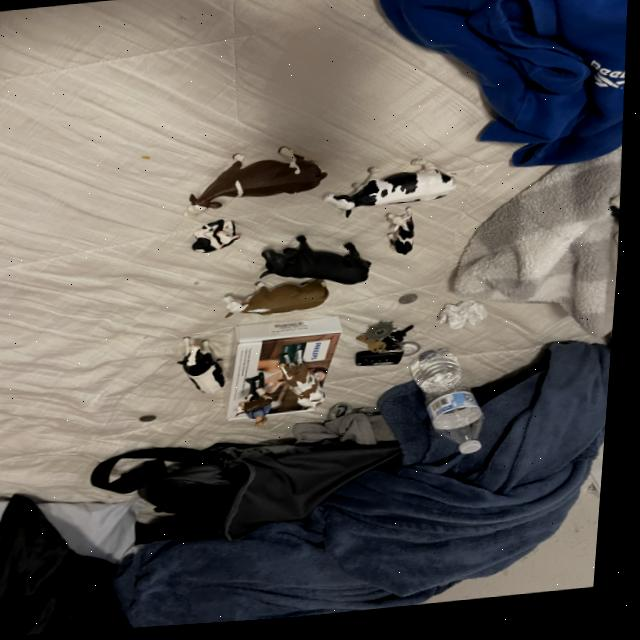cow: (179, 140, 333, 220), (323, 157, 461, 225), (263, 235, 378, 293), (174, 331, 236, 405), (228, 281, 335, 321), (281, 353, 339, 418), (189, 216, 246, 261), (386, 212, 423, 263), (240, 394, 281, 421)
person: (252, 404, 290, 433)
